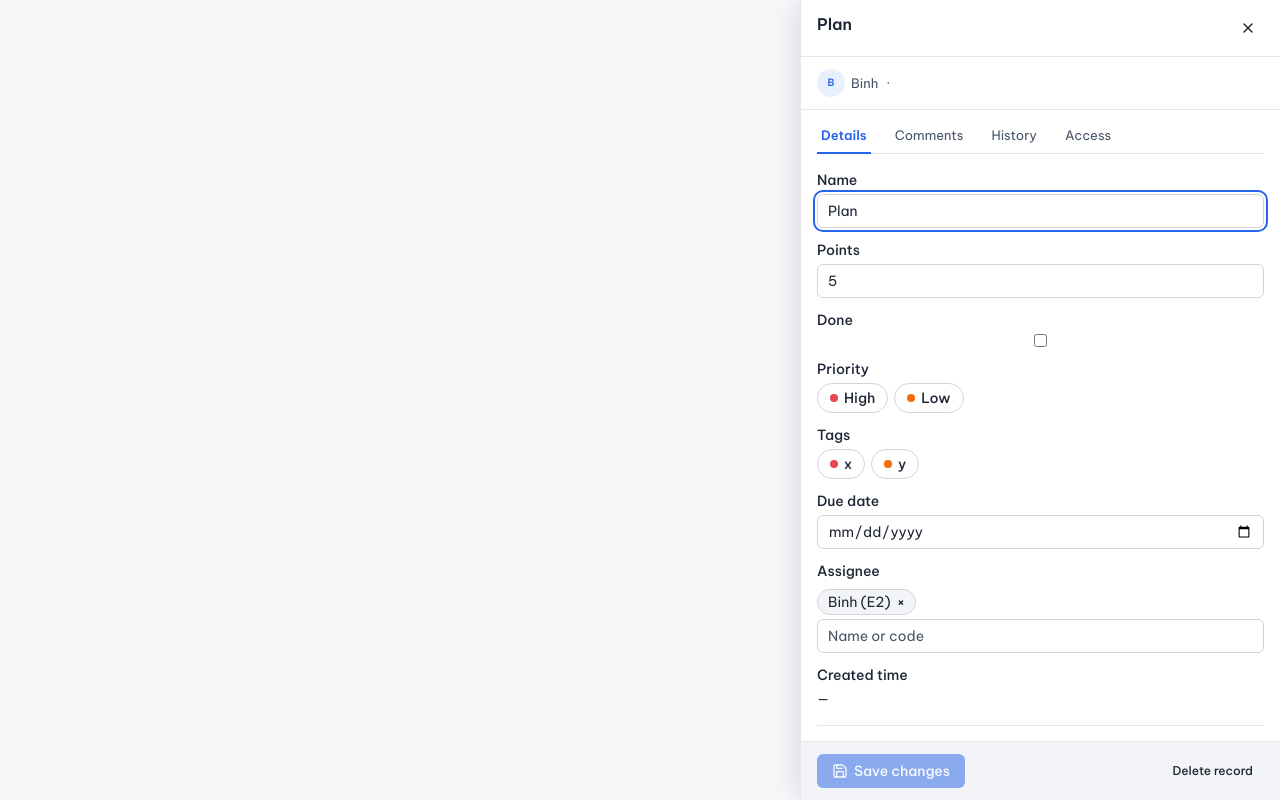
Test: saving › copes with a network failure
The image size is (1280, 800).
Step 1. Type "!" into the field labelled "Name" → (1040, 211), box [817, 194, 1264, 228]
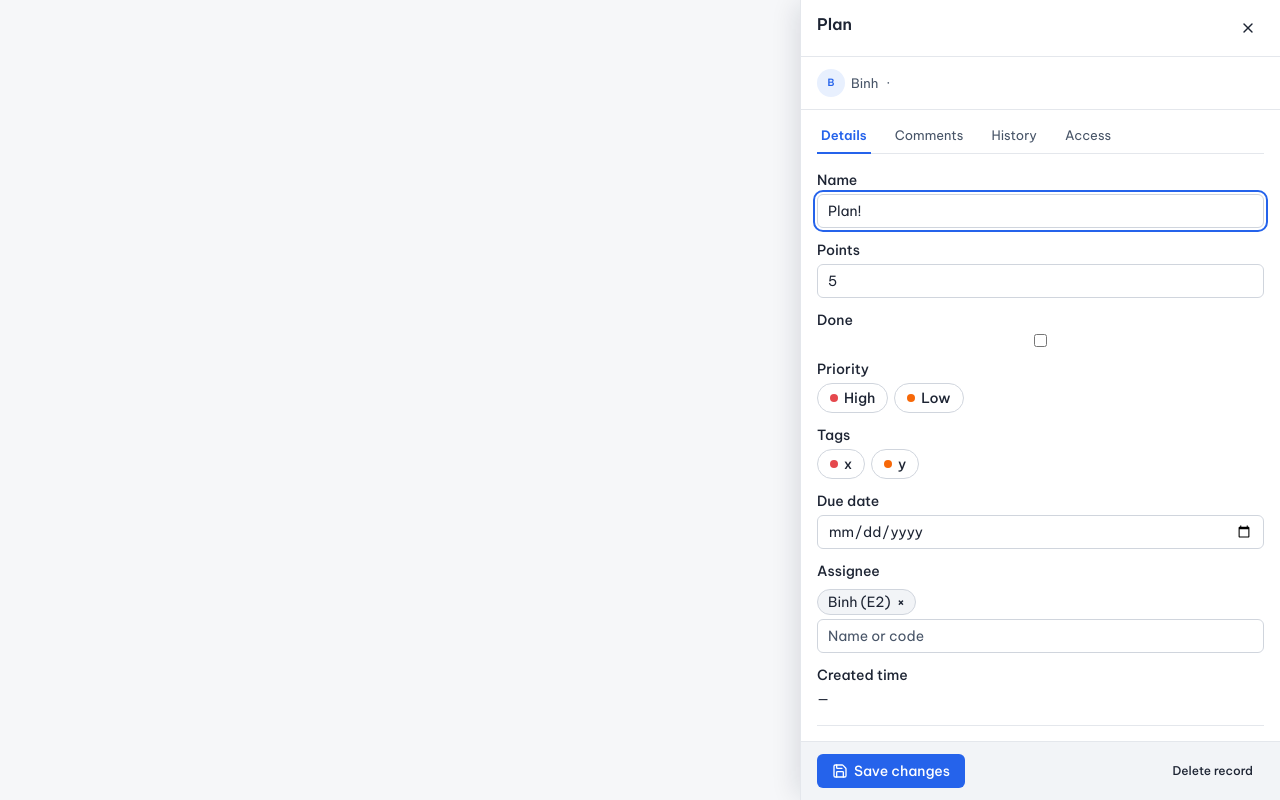
Step 2. Click the button "Save changes" → (891, 771), box [817, 754, 965, 788]
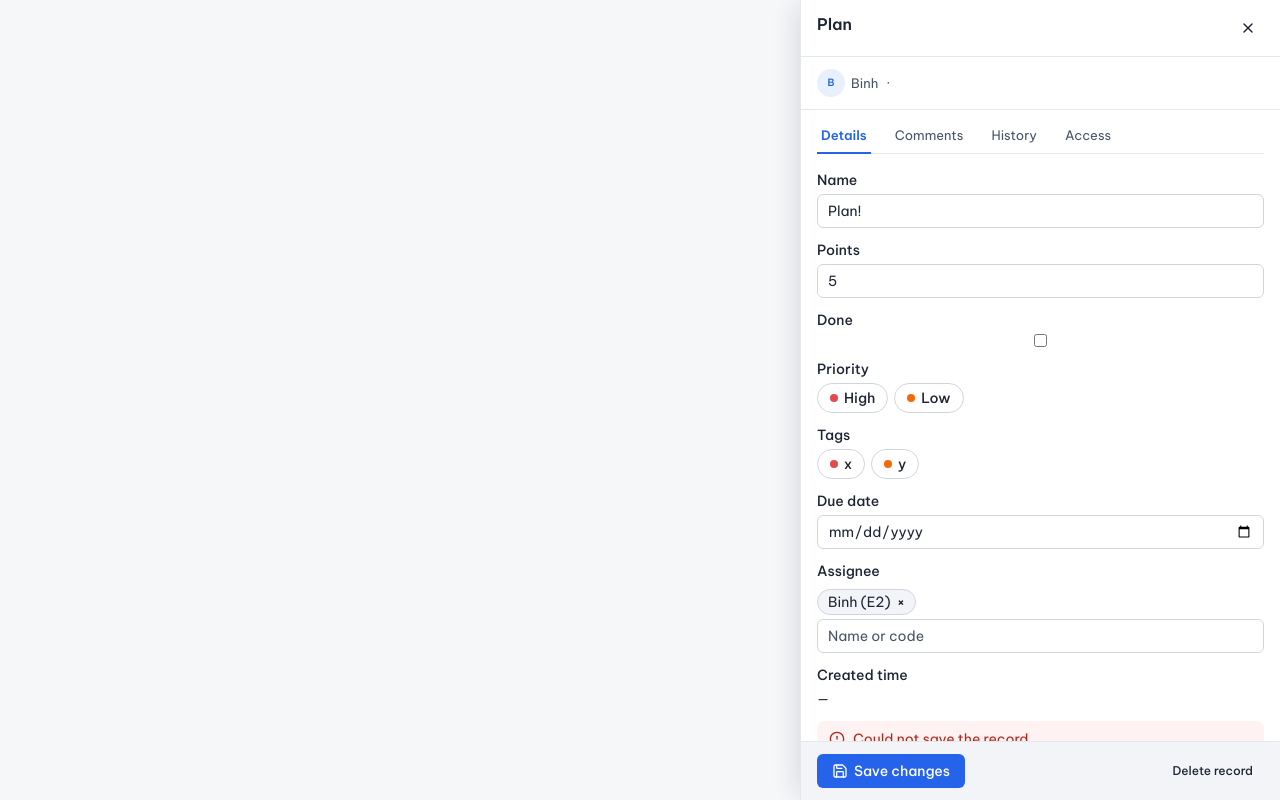
Check: the text "Could not save the record." is shown, box [853, 729, 1032, 741]
